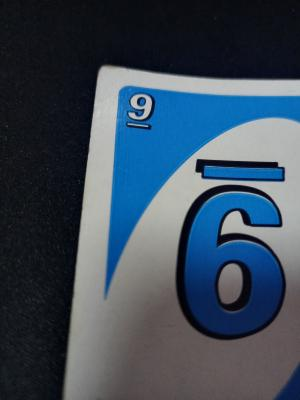blue: (112, 80, 296, 390)
num_9: (110, 88, 163, 136)
